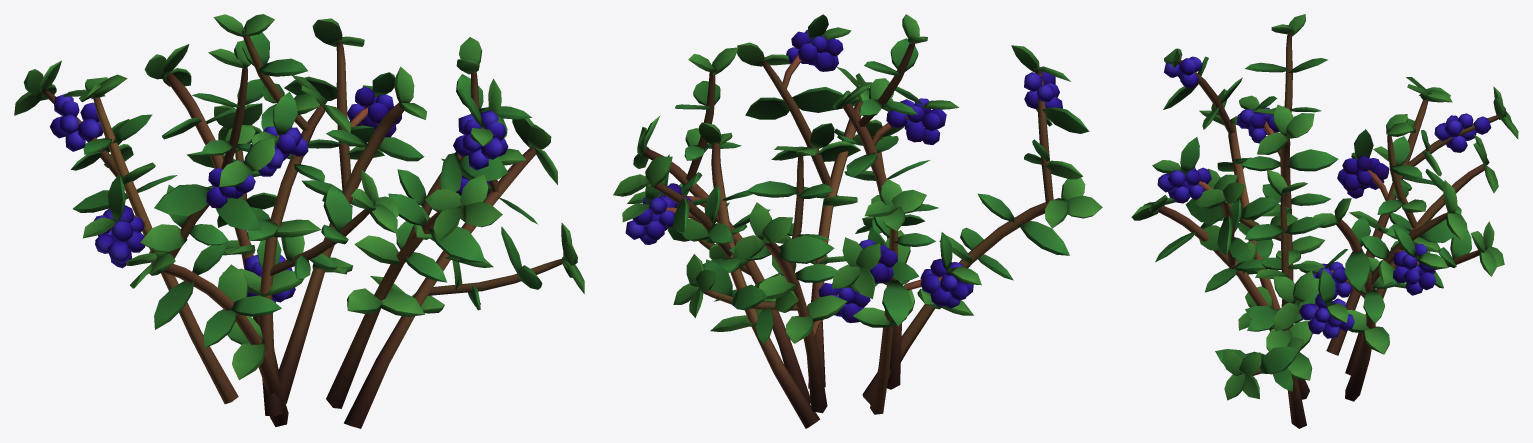
File: SM_Plant_Blueberry_Lv3.fbx
3 views of the same model, side by side, from view 1: azimuth 30°, elevation 25°; view 2: azimuth 150°, elevation 25°; view 3: azimuth 270°, elevation 25° (orthographic). The views are drawn at different scales.
Visible parts, largest first — view 1: SM_Plant_Blueberry_Lv3; view 2: SM_Plant_Blueberry_Lv3; view 3: SM_Plant_Blueberry_Lv3.
Part boxes in pixels (box(x1,y1,x2,y2)): SM_Plant_Blueberry_Lv3: box(14, 14, 584, 428); SM_Plant_Blueberry_Lv3: box(613, 14, 1102, 428); SM_Plant_Blueberry_Lv3: box(1131, 14, 1518, 428).
Bounding box in the file's own units: 69.42 × 63.33 × 61.35.
